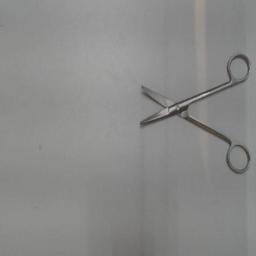Curved Mayo Scissors: (134, 48, 254, 180)
